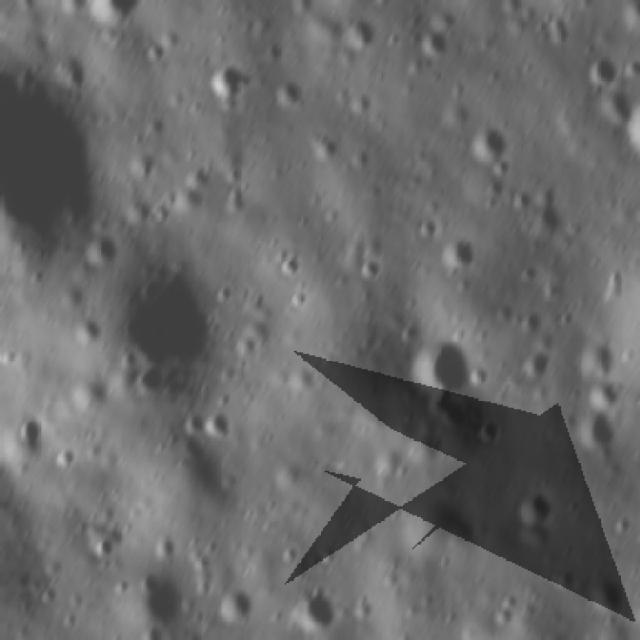crater: (1, 60, 116, 252), (98, 258, 215, 394), (402, 330, 480, 390), (134, 575, 189, 636), (281, 589, 344, 636), (569, 406, 623, 456), (418, 390, 473, 432), (210, 586, 262, 628), (202, 60, 249, 106), (570, 341, 624, 379), (582, 574, 628, 618), (578, 376, 624, 416), (174, 433, 217, 475), (344, 14, 385, 58), (511, 488, 557, 526), (302, 125, 342, 167), (79, 232, 121, 271), (597, 84, 635, 127), (438, 234, 482, 271), (586, 46, 622, 91), (11, 413, 46, 459), (473, 127, 510, 167), (267, 75, 301, 117), (433, 95, 476, 127), (136, 33, 173, 69), (413, 24, 449, 59), (202, 407, 236, 444), (272, 249, 308, 282), (283, 364, 320, 396), (226, 328, 260, 362), (67, 317, 104, 348), (129, 148, 163, 181), (519, 348, 550, 382), (545, 563, 578, 594), (288, 0, 327, 26), (356, 253, 386, 284), (409, 212, 442, 240), (178, 404, 208, 434), (479, 416, 506, 449), (89, 533, 117, 564), (143, 112, 174, 140), (351, 592, 375, 626), (285, 285, 313, 313), (50, 444, 76, 473), (208, 282, 238, 307), (518, 308, 545, 335), (487, 604, 513, 630), (498, 588, 522, 609)
